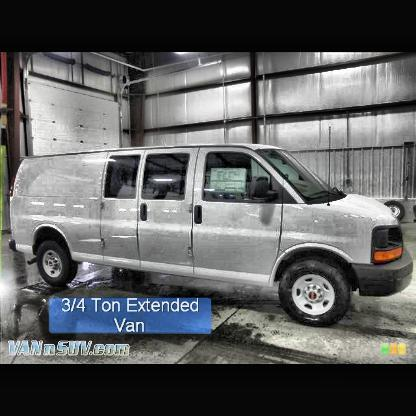GMC Savana Van 2012: (13, 146, 416, 328)
